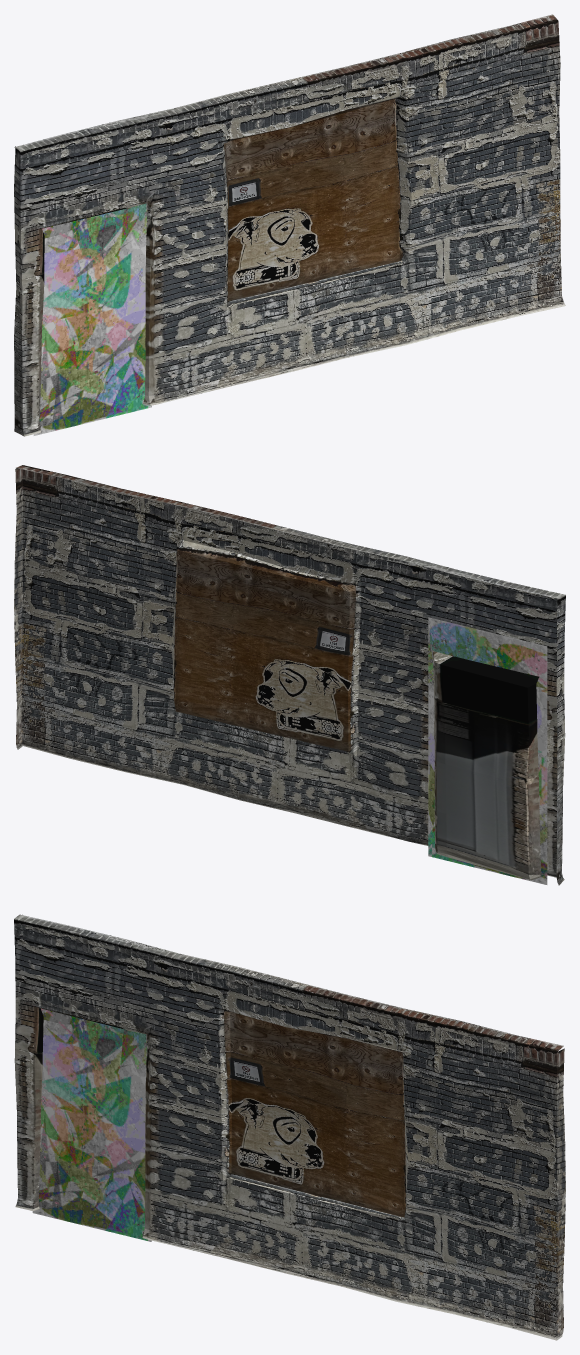
Rendered from backdrop2.fbx.
The picture shows the model from 3 angles, top to bottom: view 1: azimuth 30°, elevation 25°; view 2: azimuth 150°, elevation 25°; view 3: azimuth 330°, elevation 25°; orthographic projection.
Visible parts, largest first — view 1: backdrop; view 2: backdrop; view 3: backdrop.
Boxes of the visible parts, left/top/right/bottom form: backdrop: left=14, top=14, right=565, bottom=436; backdrop: left=14, top=465, right=565, bottom=885; backdrop: left=14, top=914, right=565, bottom=1340.
Bounding box in the file's own units: 2576 × 107 × 1317.
